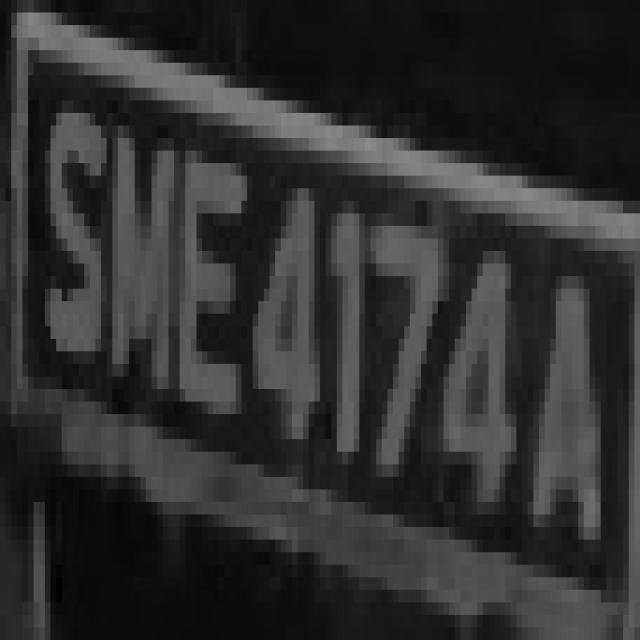1: (309, 150, 376, 540)
4: (236, 125, 326, 452), (444, 163, 516, 565)
7: (365, 138, 443, 552)
A: (511, 188, 623, 602)
E: (186, 100, 242, 464)
M: (90, 100, 191, 427)
S: (17, 62, 101, 402)
